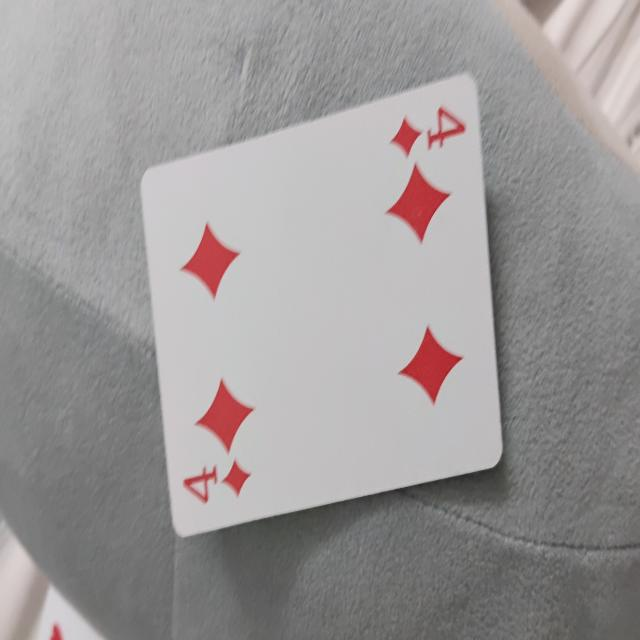4D: (141, 57, 504, 578)
